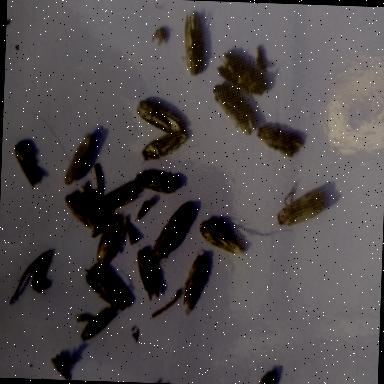pbw: (148, 198, 194, 270), (206, 79, 262, 138), (211, 46, 273, 99), (274, 180, 334, 232), (249, 111, 310, 162), (82, 262, 132, 320), (175, 5, 211, 83), (197, 210, 251, 262), (92, 172, 146, 221), (179, 245, 214, 320), (93, 207, 134, 270), (131, 95, 191, 138), (62, 189, 111, 241), (77, 292, 122, 348), (138, 123, 194, 167), (132, 245, 173, 305), (62, 125, 96, 190), (11, 136, 46, 193), (133, 164, 182, 198), (84, 158, 108, 204), (47, 349, 78, 379), (90, 204, 113, 244)
